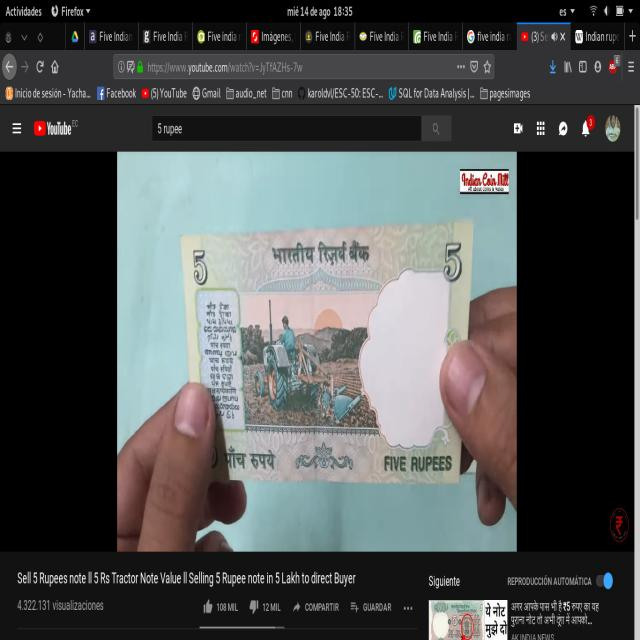5IndianRupees: (181, 232, 463, 474)
